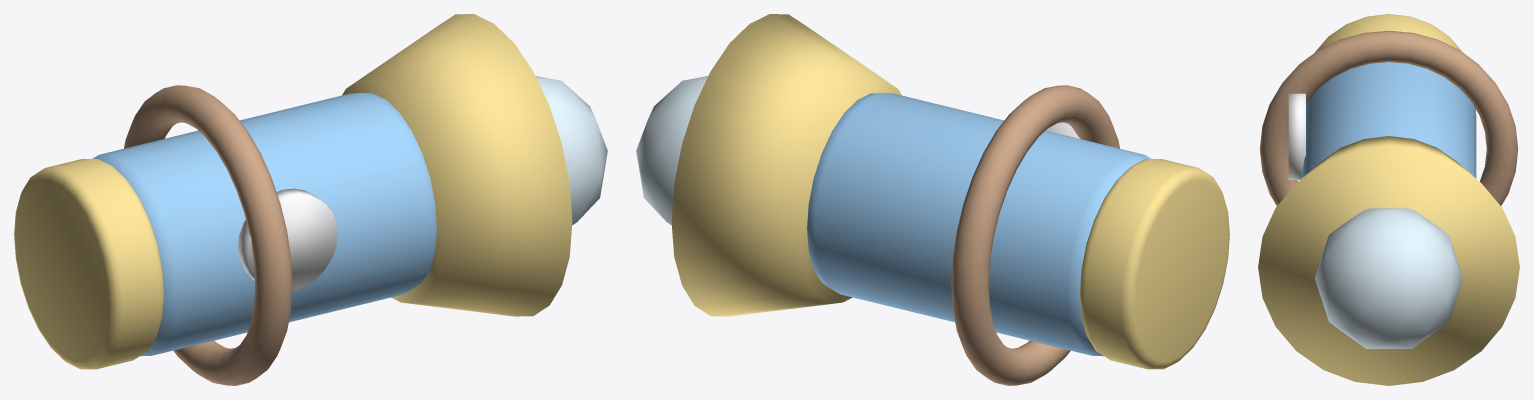
File: scoop.glb
The picture shows the model from 3 angles, left to right: view 1: azimuth 30°, elevation 25°; view 2: azimuth 150°, elevation 25°; view 3: azimuth 270°, elevation 25°; orthographic projection. The views are drawn at different scales.
Parts seen in each view (by area): view 1: scoop; view 2: scoop; view 3: scoop.
Boxes of the visible parts, x1=… form: scoop: x1=14, y1=14, x2=607, y2=385; scoop: x1=636, y1=14, x2=1229, y2=385; scoop: x1=1258, y1=14, x2=1519, y2=385.
Bounding box in the file's own units: 0.5908 × 0.3 × 0.3.
